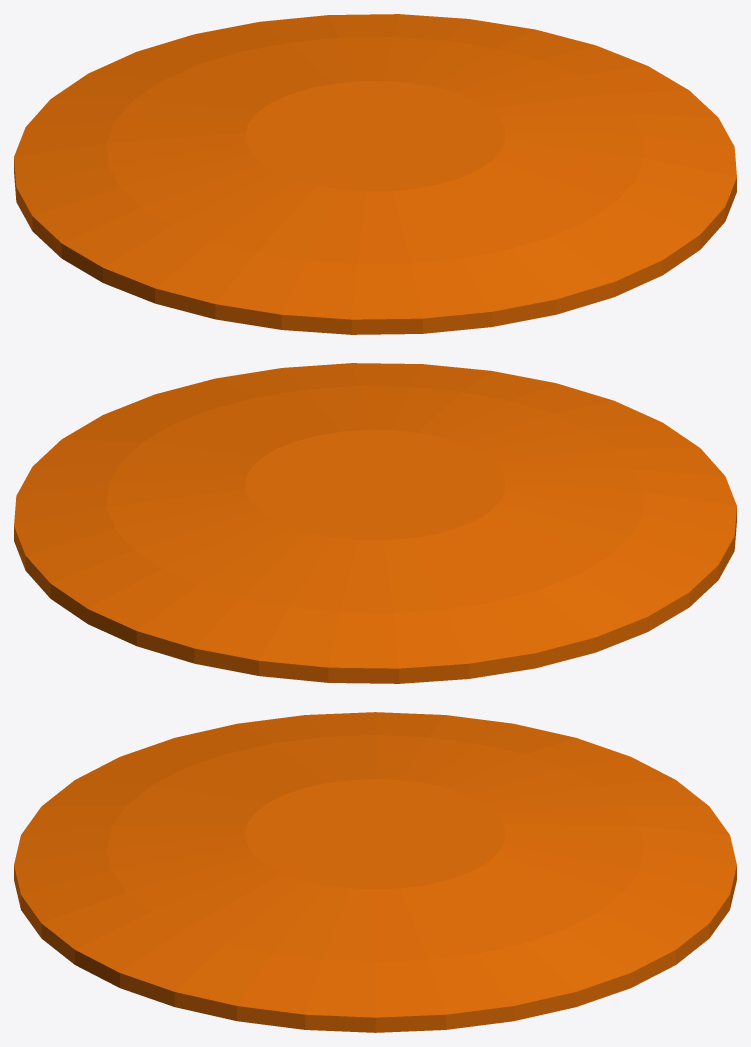
Rendered from frisbee.dae.
The picture shows the model from 3 angles, top to bottom: view 1: azimuth 30°, elevation 25°; view 2: azimuth 150°, elevation 25°; view 3: azimuth 270°, elevation 25°; orthographic projection.
Parts seen in each view (by area): view 1: Cylinder; view 2: Cylinder; view 3: Cylinder.
Part boxes in pixels (bbox=[...]): Cylinder: bbox=[14, 14, 736, 334]; Cylinder: bbox=[14, 363, 736, 683]; Cylinder: bbox=[14, 712, 736, 1032].
Size of the model in its own units: 0.2 by 0.2 by 0.0169.
